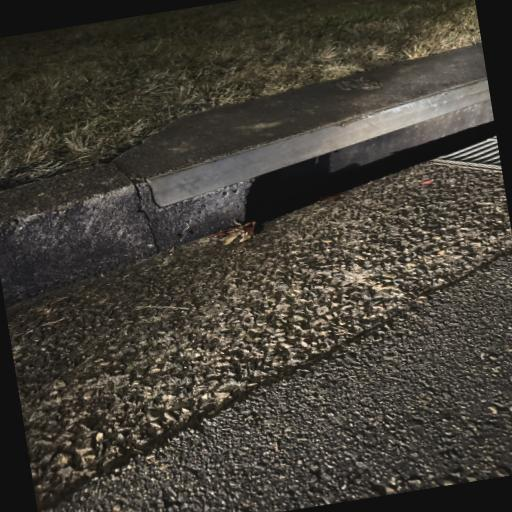kerb: (0, 45, 511, 507)
